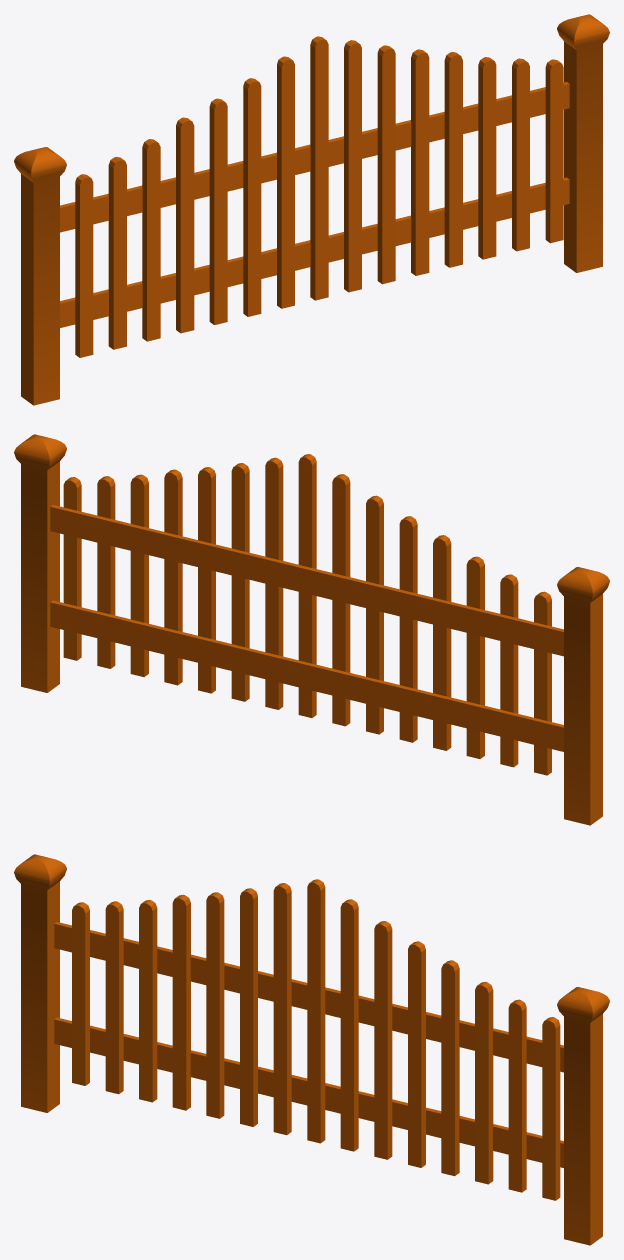
Rendered from Fence_4.fbx.
3 views of the same model, one above another, from view 1: azimuth 30°, elevation 25°; view 2: azimuth 150°, elevation 25°; view 3: azimuth 330°, elevation 25° (orthographic).
Parts seen in each view (by area): view 1: Fence_4; view 2: Fence_4; view 3: Fence_4.
Part boxes in pixels (box(x1,y1,x2,y2)): Fence_4: box(14, 14, 609, 405); Fence_4: box(14, 434, 609, 825); Fence_4: box(14, 854, 609, 1245).
Bounding box in the file's own units: 314 × 152 × 16.06.
1 material, 1 textured.
